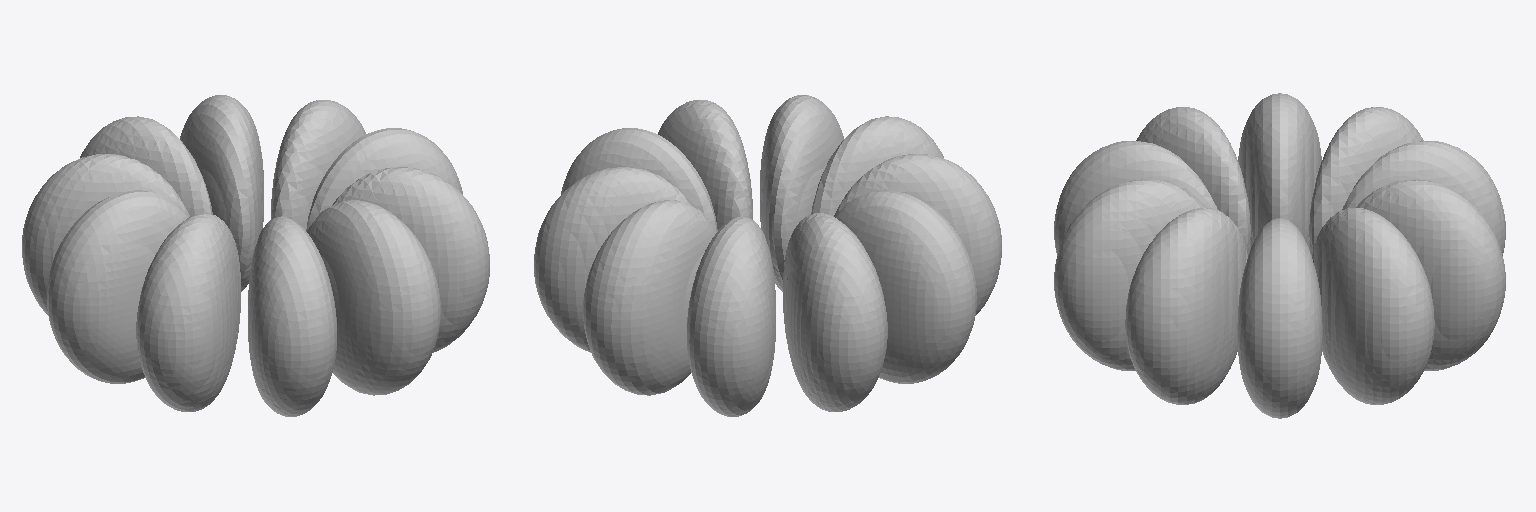
The model's file is orb_n=6_ l=5 _m=5.obj.
The picture shows the model from 3 angles: view 1: azimuth 30°, elevation 25°; view 2: azimuth 150°, elevation 25°; view 3: azimuth 270°, elevation 25°; orthographic projection.
Visible parts, largest first — view 1: orb_n=6__l=5__m=5; view 2: orb_n=6__l=5__m=5; view 3: orb_n=6__l=5__m=5.
Boxes of the visible parts, x1,y1,x2,y2 form: orb_n=6__l=5__m=5: [22, 95, 489, 416]; orb_n=6__l=5__m=5: [534, 95, 1001, 416]; orb_n=6__l=5__m=5: [1054, 93, 1505, 418].
Bounding box in the file's own units: 133 × 58.4 × 128.